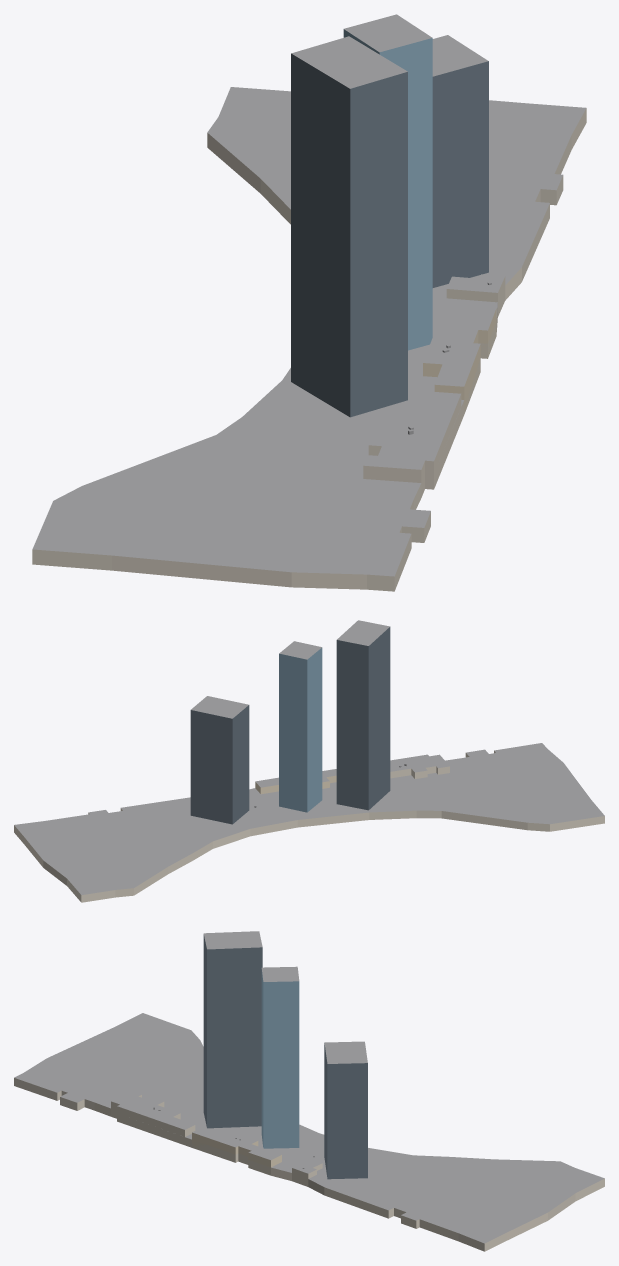
Rendered from building_-5_4.glb.
3 views of the same model, one above another, from view 1: azimuth 30°, elevation 25°; view 2: azimuth 150°, elevation 25°; view 3: azimuth 270°, elevation 25° (orthographic). The views are drawn at different scales.
Visible parts, largest first — view 1: roof, glass_dark, concrete_warm, glass_blue, sandstone; view 2: roof, glass_dark, glass_blue, concrete_warm; view 3: roof, glass_dark, glass_blue, concrete_warm, sandstone.
Boxes of the visible parts, x1,y1,x2,y2 form: roof: [32, 14, 586, 576]; glass_dark: [291, 53, 488, 417]; concrete_warm: [32, 108, 586, 591]; glass_blue: [343, 29, 432, 350]; sandstone: [423, 308, 496, 412]; roof: [14, 620, 604, 895]; glass_dark: [190, 627, 390, 824]; glass_blue: [279, 647, 322, 812]; concrete_warm: [14, 751, 604, 902]; roof: [14, 931, 604, 1243]; glass_dark: [203, 934, 367, 1179]; glass_blue: [261, 969, 299, 1148]; concrete_warm: [14, 1078, 604, 1251]; sandstone: [192, 1132, 281, 1174].
Bounding box in the file's own units: 481 × 182 × 521.
